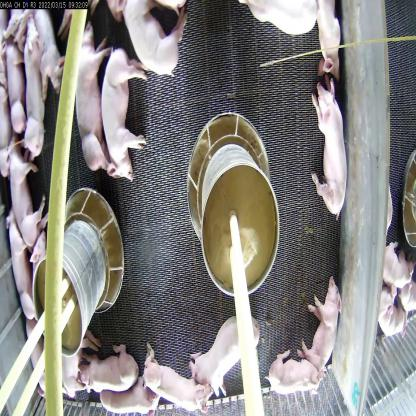Pig: (64, 38, 120, 171), (188, 315, 271, 401), (102, 0, 182, 81), (97, 52, 146, 182), (144, 336, 219, 416), (4, 132, 44, 279), (298, 267, 340, 399), (307, 80, 345, 225), (245, 0, 322, 66), (35, 0, 84, 102), (0, 198, 39, 321), (64, 333, 136, 396), (258, 354, 332, 407), (302, 0, 348, 75), (22, 32, 48, 163), (93, 371, 170, 415)
